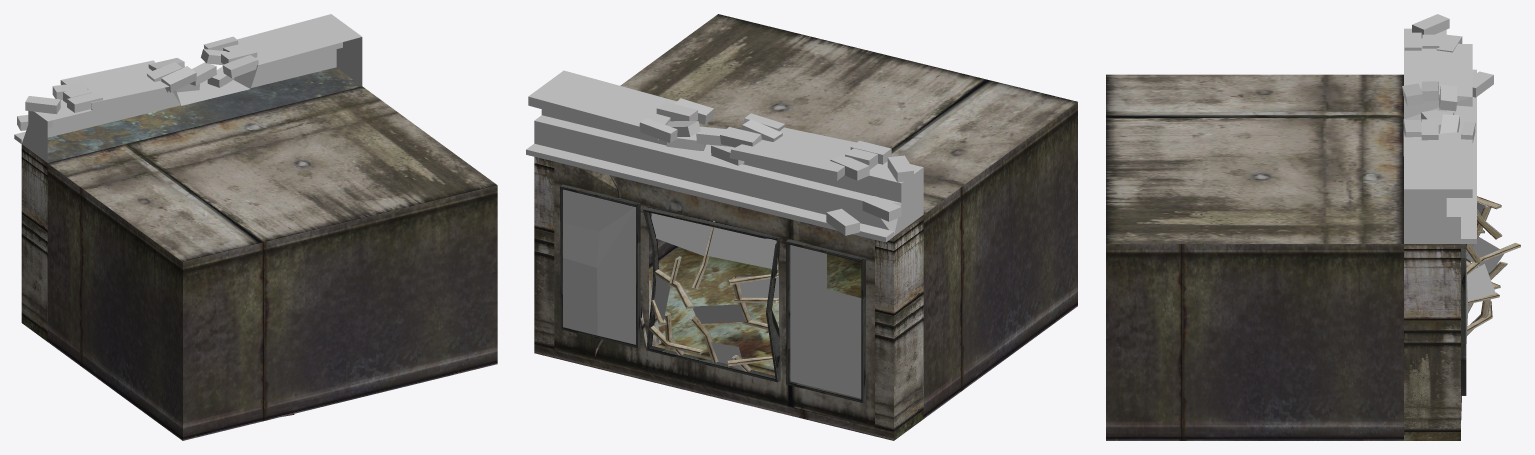
File: Store_front_1_C.fbx
The picture shows the model from 3 angles, left to right: view 1: azimuth 30°, elevation 25°; view 2: azimuth 150°, elevation 25°; view 3: azimuth 270°, elevation 25°; orthographic projection. The views are drawn at different scales.
Parts seen in each view (by area): view 1: Store_front_1_C; view 2: Store_front_1_C; view 3: Store_front_1_C.
Boxes of the visible parts, bbox=[...] form: Store_front_1_C: bbox=[14, 14, 497, 440]; Store_front_1_C: bbox=[526, 14, 1077, 440]; Store_front_1_C: bbox=[1106, 14, 1520, 440].
Size of the model in its own units: 716 by 499 by 725.
